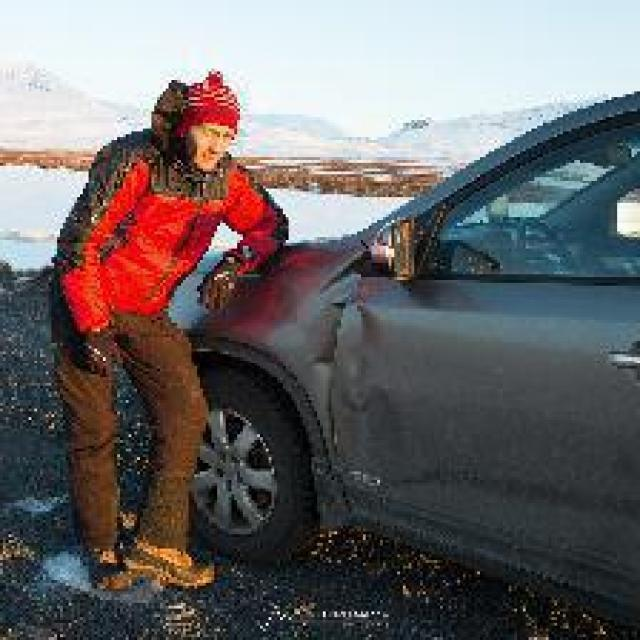damaged: (308, 252, 406, 532)
